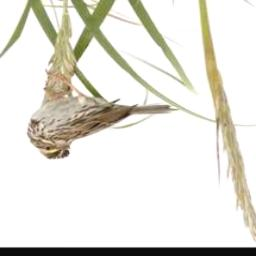Sparrow: (26, 70, 185, 162)
